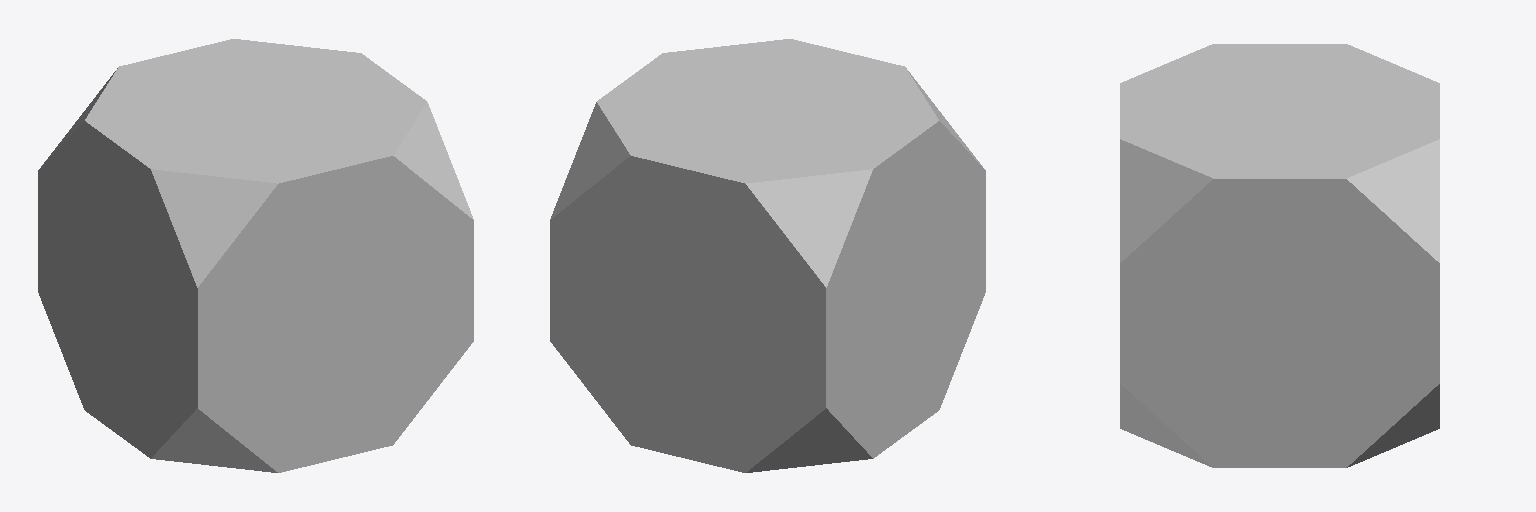
Rendered from TruncatedCube.obj.
The picture shows the model from 3 angles: view 1: azimuth 30°, elevation 25°; view 2: azimuth 150°, elevation 25°; view 3: azimuth 270°, elevation 25°; orthographic projection.
Bounding box in the file's own units: 2.41 × 2.41 × 2.41.